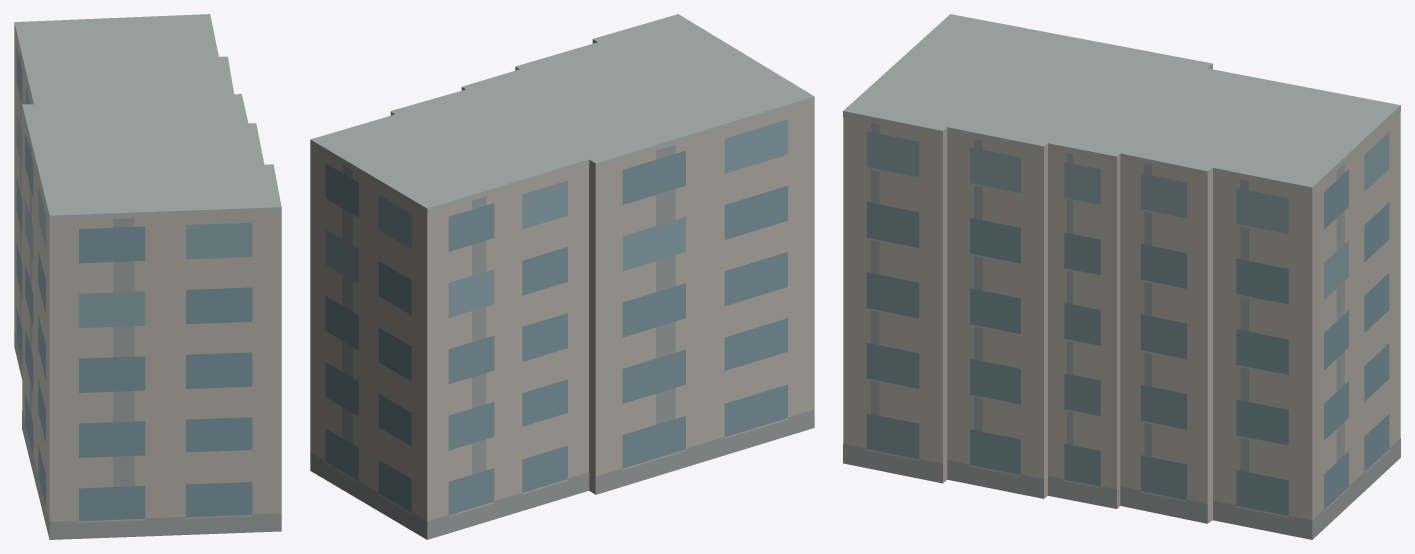
File: survey-upis-32826819.glb
3 views of the same model, side by side, from view 1: azimuth 30°, elevation 25°; view 2: azimuth 150°, elevation 25°; view 3: azimuth 270°, elevation 25° (orthographic). The views are drawn at different scales.
Parts seen in each view (by area): view 1: survey-upis-32826819.tmp; view 2: survey-upis-32826819.tmp; view 3: survey-upis-32826819.tmp.
Boxes of the visible parts, x1=… form: survey-upis-32826819.tmp: x1=14, y1=14, x2=281, y2=539; survey-upis-32826819.tmp: x1=310, y1=14, x2=814, y2=539; survey-upis-32826819.tmp: x1=843, y1=14, x2=1400, y2=539.
Size of the model in its own units: 14.79 by 14 by 20.09.
